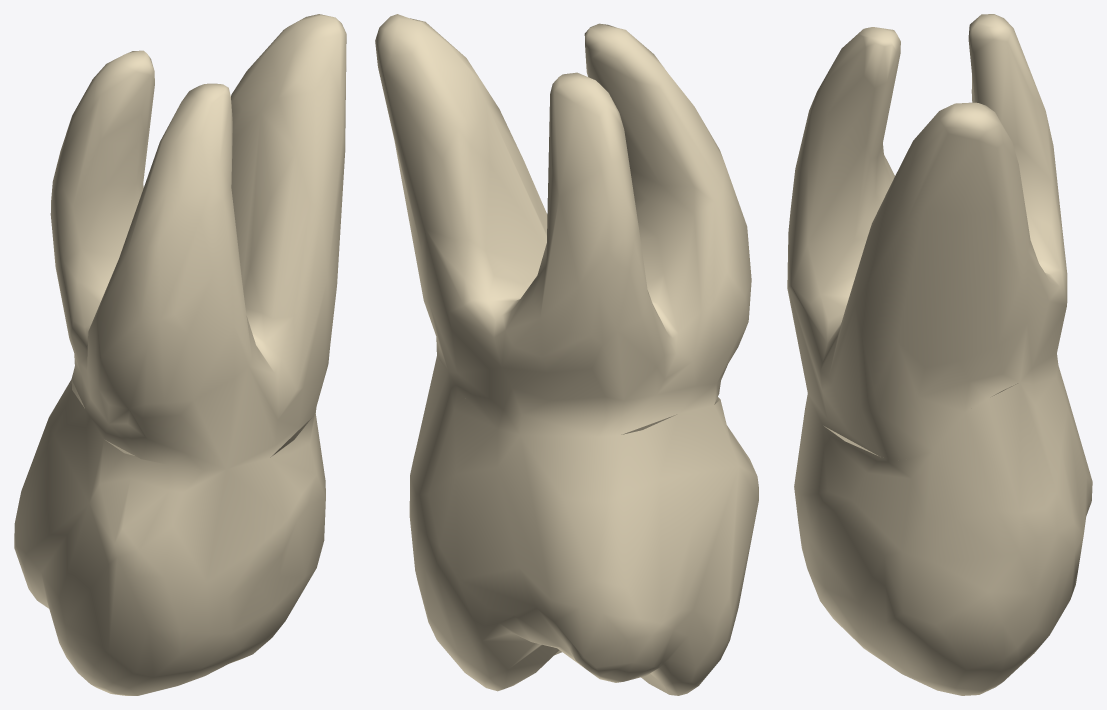
The model's file is esqueleto-upper-second-molar-tooth-r.glb.
3 views of the same model, side by side, from view 1: azimuth 30°, elevation 25°; view 2: azimuth 150°, elevation 25°; view 3: azimuth 270°, elevation 25° (orthographic). The views are drawn at different scales.
Visible parts, largest first — view 1: Upper second molar tooth.r; view 2: Upper second molar tooth.r; view 3: Upper second molar tooth.r.
Part boxes in pixels (x1=…): Upper second molar tooth.r: x1=14, y1=14, x2=346, y2=695; Upper second molar tooth.r: x1=375, y1=14, x2=758, y2=695; Upper second molar tooth.r: x1=787, y1=14, x2=1092, y2=695.
Bounding box in the file's own units: 0.0116 × 0.0221 × 0.00961.
